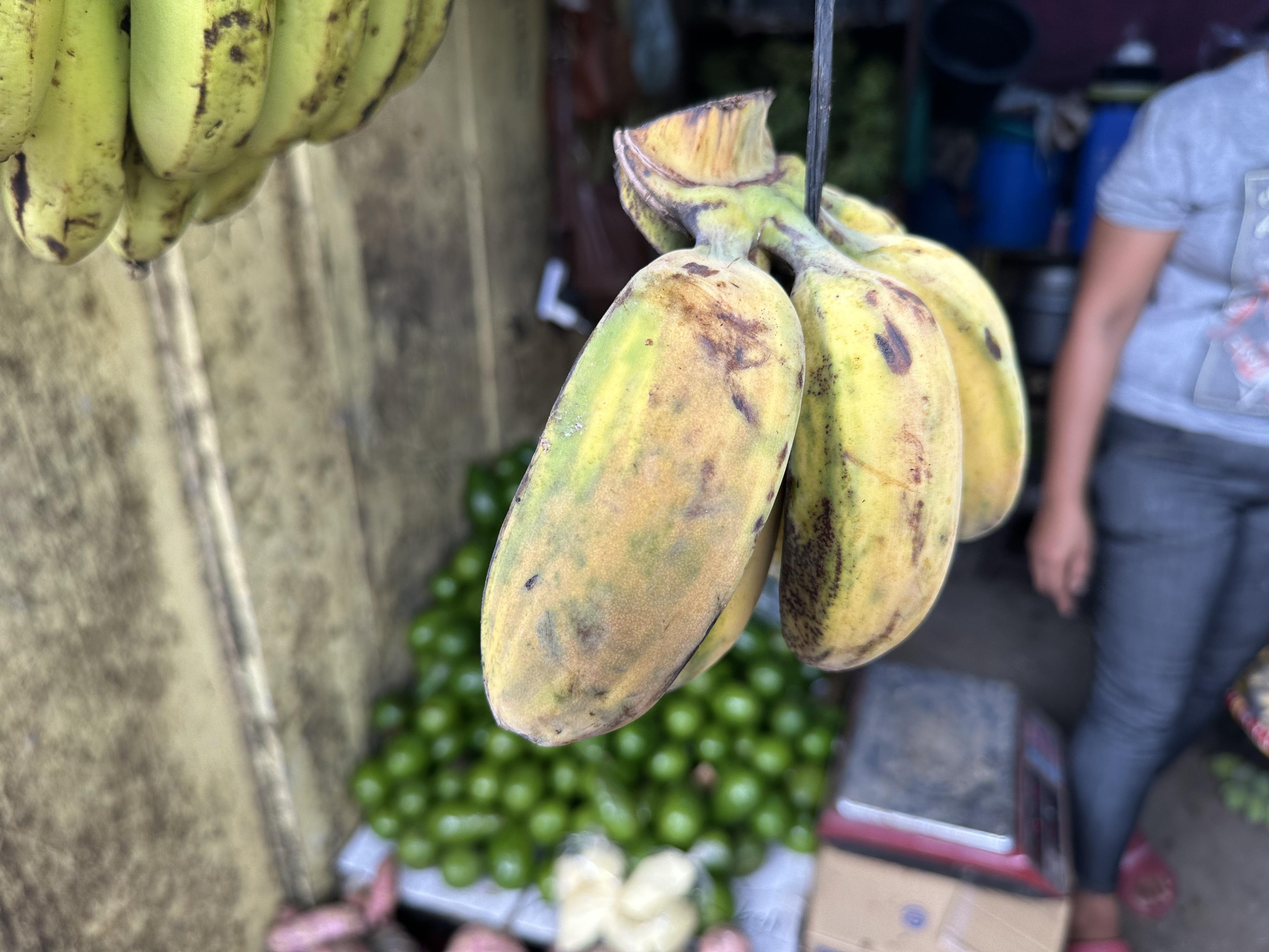underripe: (481, 239, 1028, 745)
